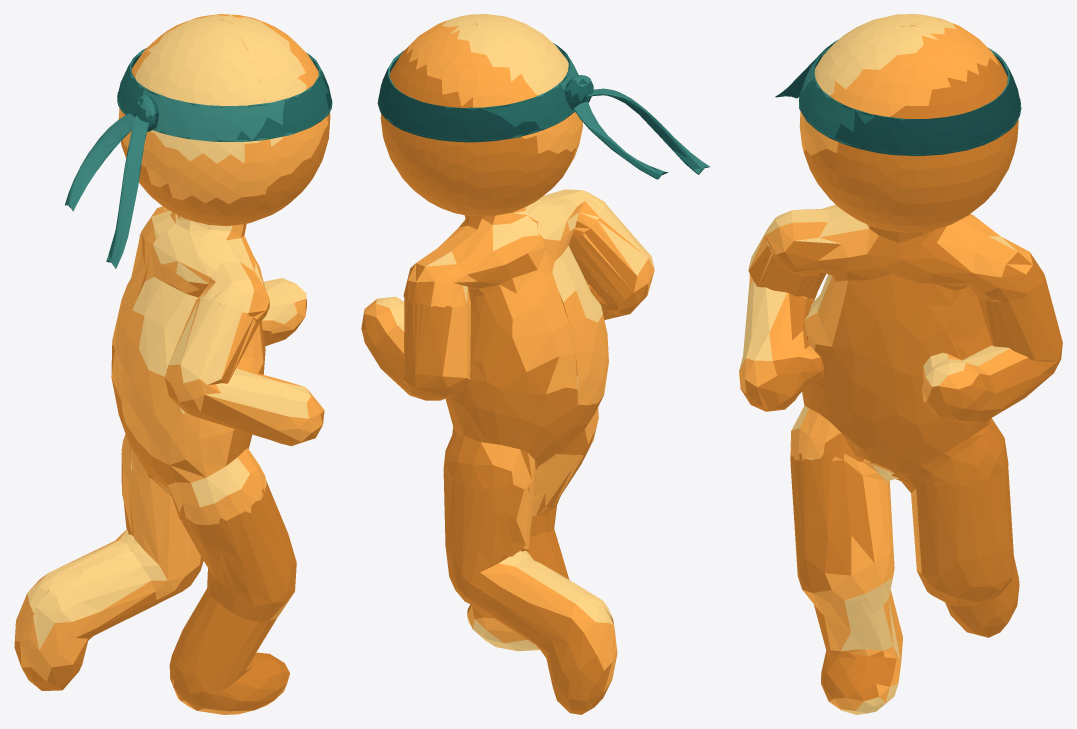
File: Ninja_Jog5_R.gltf
The picture shows the model from 3 angles, left to right: view 1: azimuth 30°, elevation 25°; view 2: azimuth 150°, elevation 25°; view 3: azimuth 270°, elevation 25°; orthographic projection. The views are drawn at different scales.
Parts seen in each view (by area): view 1: Ninja_Jog5_R_baked; view 2: Ninja_Jog5_R_baked; view 3: Ninja_Jog5_R_baked.
Boxes of the visible parts, bbox=[...] form: Ninja_Jog5_R_baked: bbox=[14, 14, 332, 714]; Ninja_Jog5_R_baked: bbox=[361, 14, 709, 714]; Ninja_Jog5_R_baked: bbox=[739, 14, 1062, 714].
Size of the model in its own units: 0.4306 by 1 by 0.4269.
